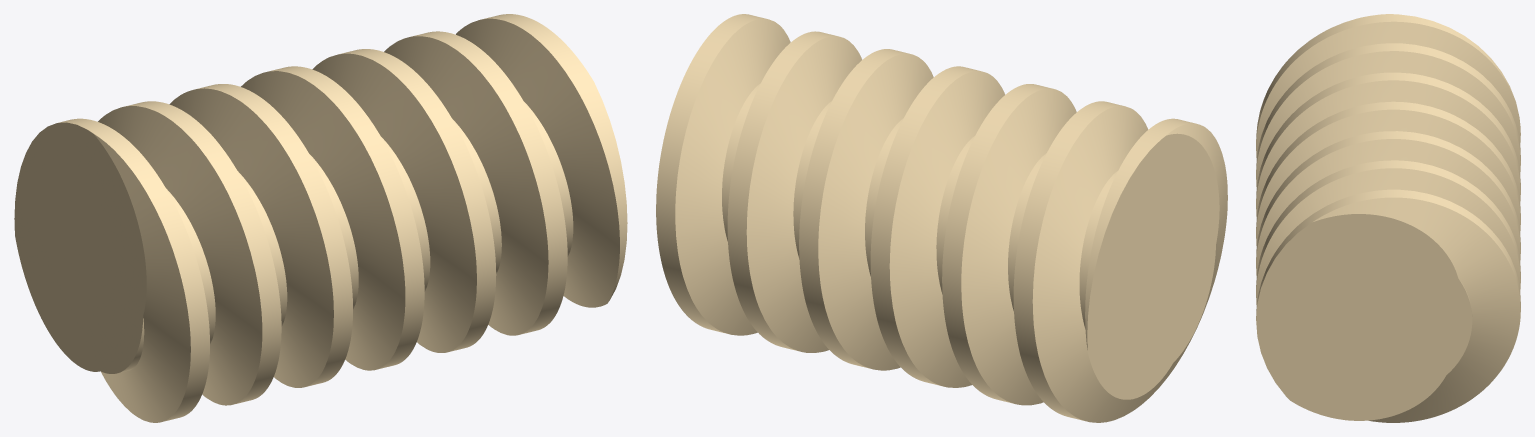
Rendered from 2.4 Worm.glb.
3 views of the same model, side by side, from view 1: azimuth 30°, elevation 25°; view 2: azimuth 150°, elevation 25°; view 3: azimuth 270°, elevation 25° (orthographic). The views are drawn at different scales.
Visible parts, largest first — view 1: 零件5; view 2: 零件5; view 3: 零件5.
Boxes of the visible parts, x1,y1,x2,y2 form: 零件5: (14,14,627,422); 零件5: (656,14,1227,422); 零件5: (1256,14,1520,422).
Bounding box in the file's own units: 0.1 × 0.06 × 0.06.
